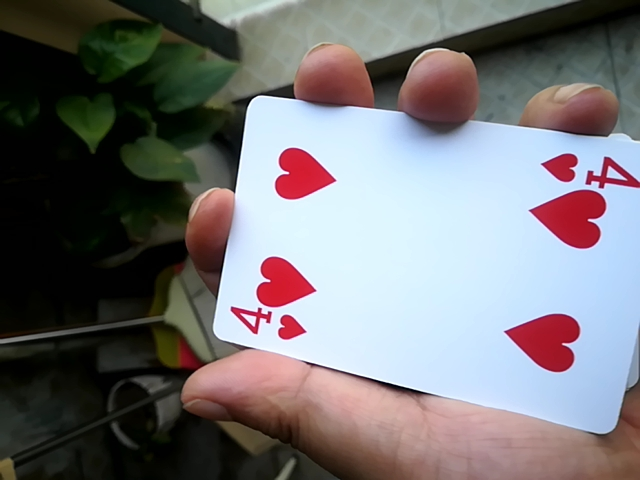hx 4: (201, 86, 630, 436)
